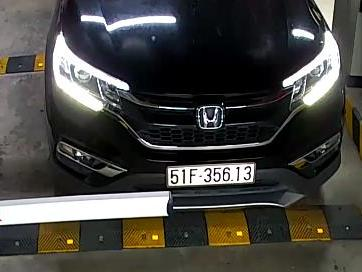number: (168, 161, 254, 186)
